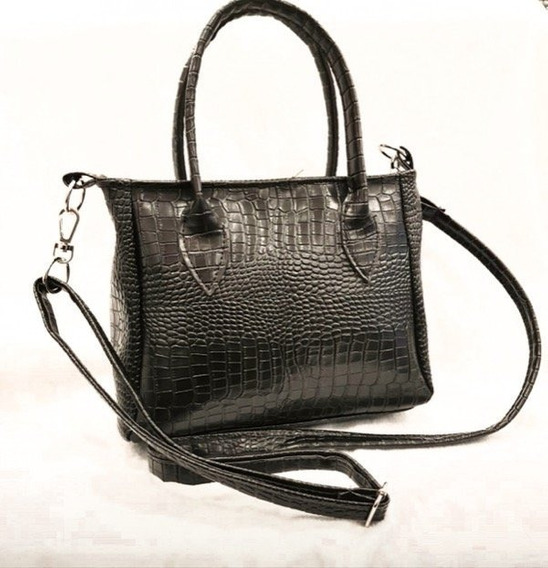cartera: (86, 1, 436, 444)
